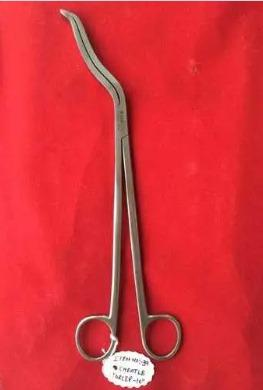Cheatle Forceps: (48, 6, 183, 362)
